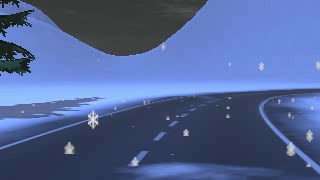Lane: (0, 88, 319, 179)
